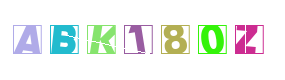0: (165, 0, 245, 80)
1: (104, 0, 184, 80)
8: (135, 0, 215, 80)
A: (9, 0, 89, 80)
B: (23, 0, 103, 80)
K: (77, 0, 157, 80)
Z: (171, 0, 251, 80)
